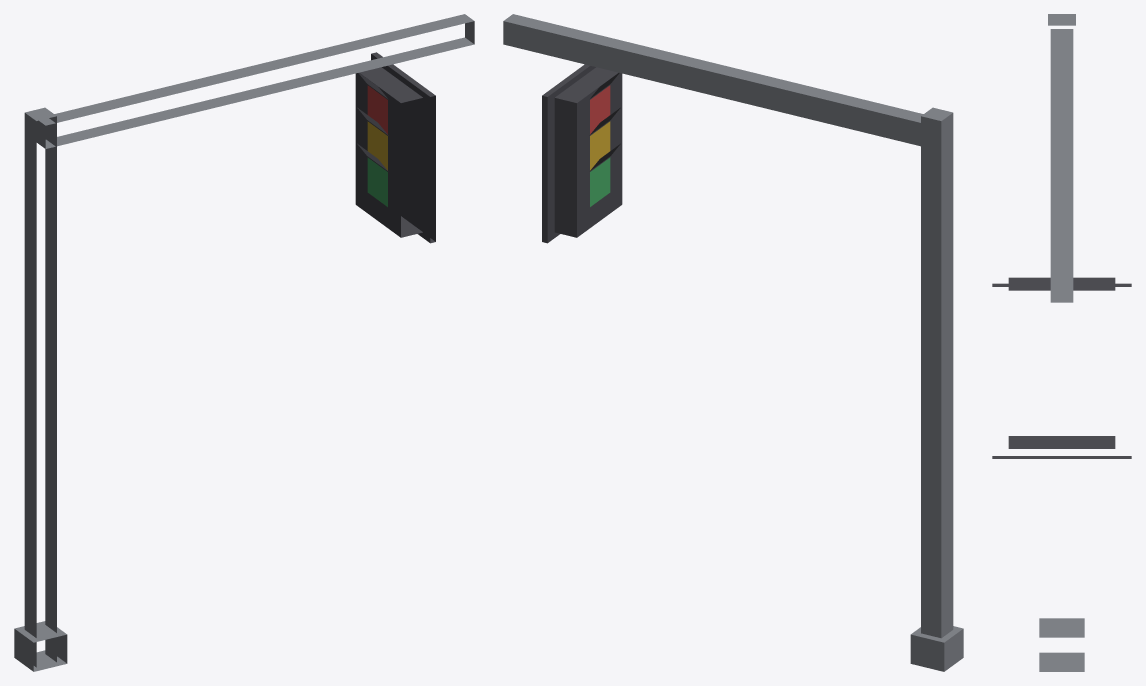
Rendered from traffic_light_usa.glb.
The picture shows the model from 3 angles, left to right: view 1: azimuth 30°, elevation 25°; view 2: azimuth 150°, elevation 25°; view 3: azimuth 270°, elevation 25°; orthographic projection. The views are drawn at different scales.
Visible parts, largest first — view 1: asset; view 2: asset; view 3: asset.
Boxes of the visible parts, x1,y1,x2,y2 form: asset: (14, 14, 474, 671); asset: (503, 14, 963, 671); asset: (992, 14, 1131, 671).
Size of the model in its own units: 4.78 by 5.6 by 1.1.
